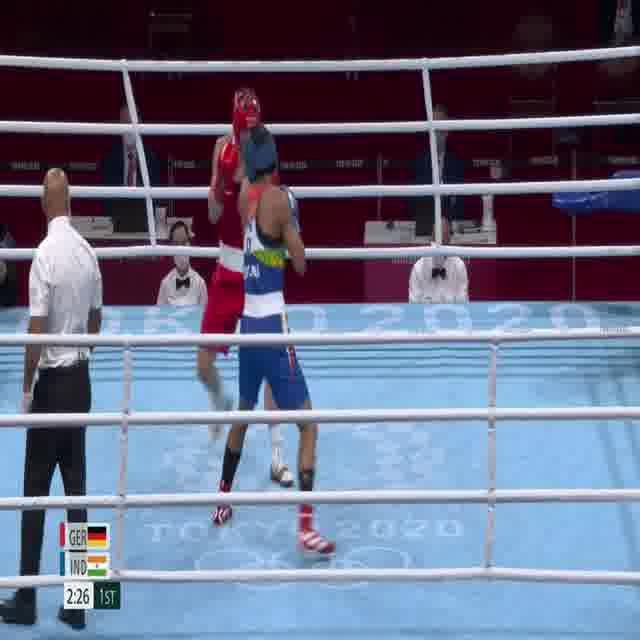blue-player: (209, 126, 339, 560)
red-player: (193, 90, 299, 495)
referee: (3, 166, 103, 634)
